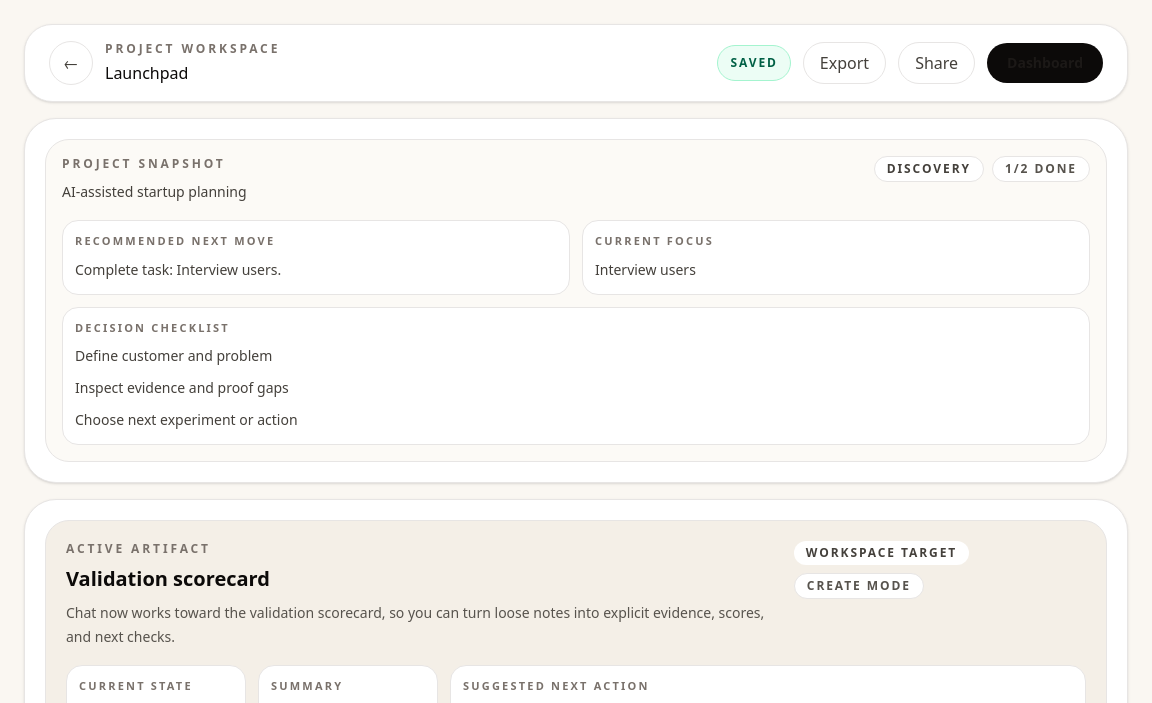
Test: ProjectWorkspacePage › replays a buffered realtime refresh only after a failed save is retried successfully
Replace the text in the field named "Project name" with "Local rename". click: (265,73)
box: [105,61,425,85]
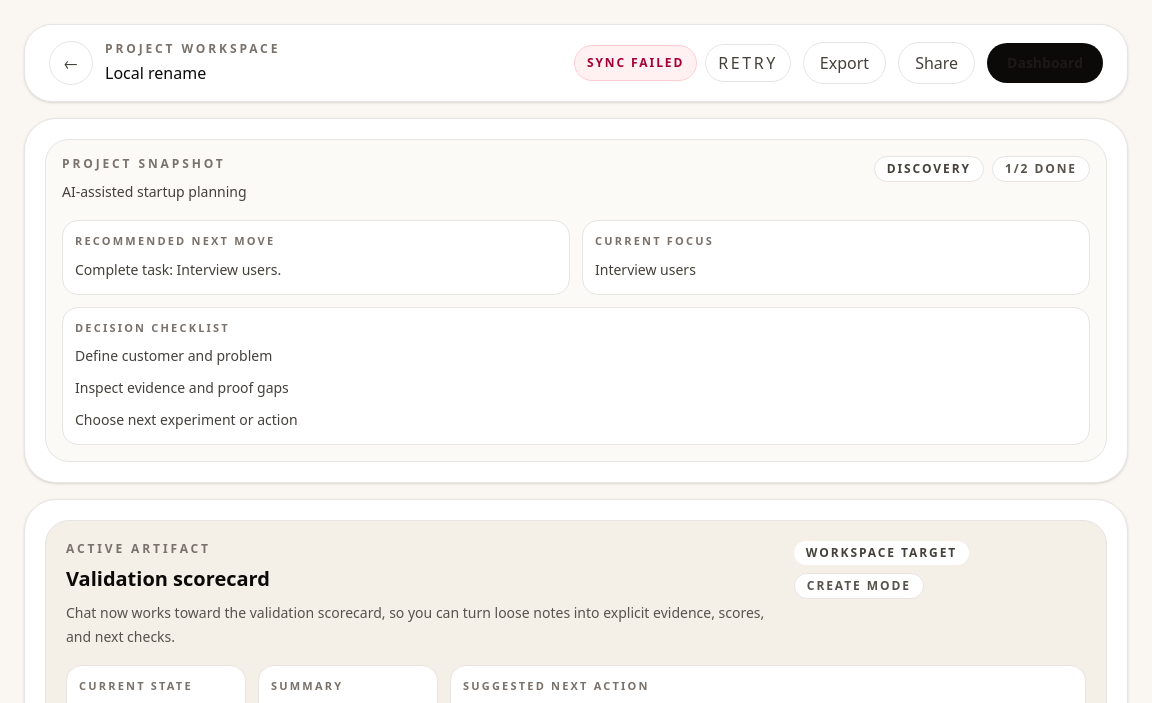
Expected: the text "Sync failed" is shown, [574,45,697,81]
Click the button "Retry". click: (748,63)
box: [705,44,791,82]
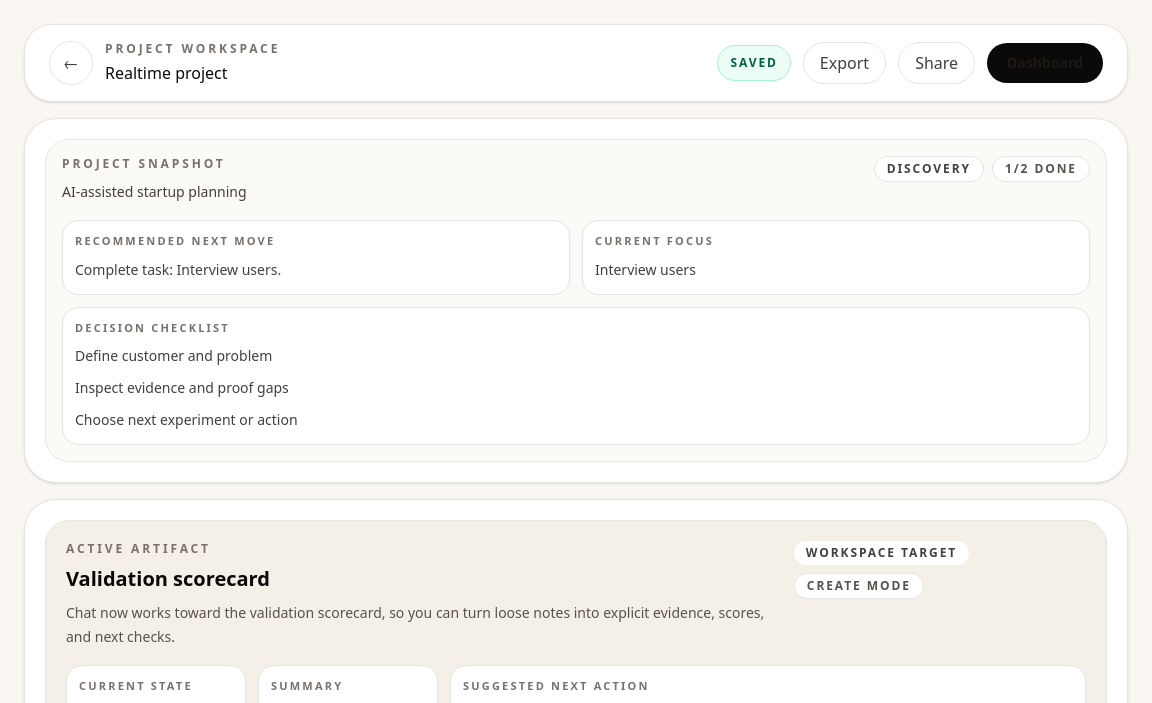
Expected: the field showing "Realtime project" is shown, [105,61,425,85]
Expected: the text "Saved" is shown, [717,45,791,81]
